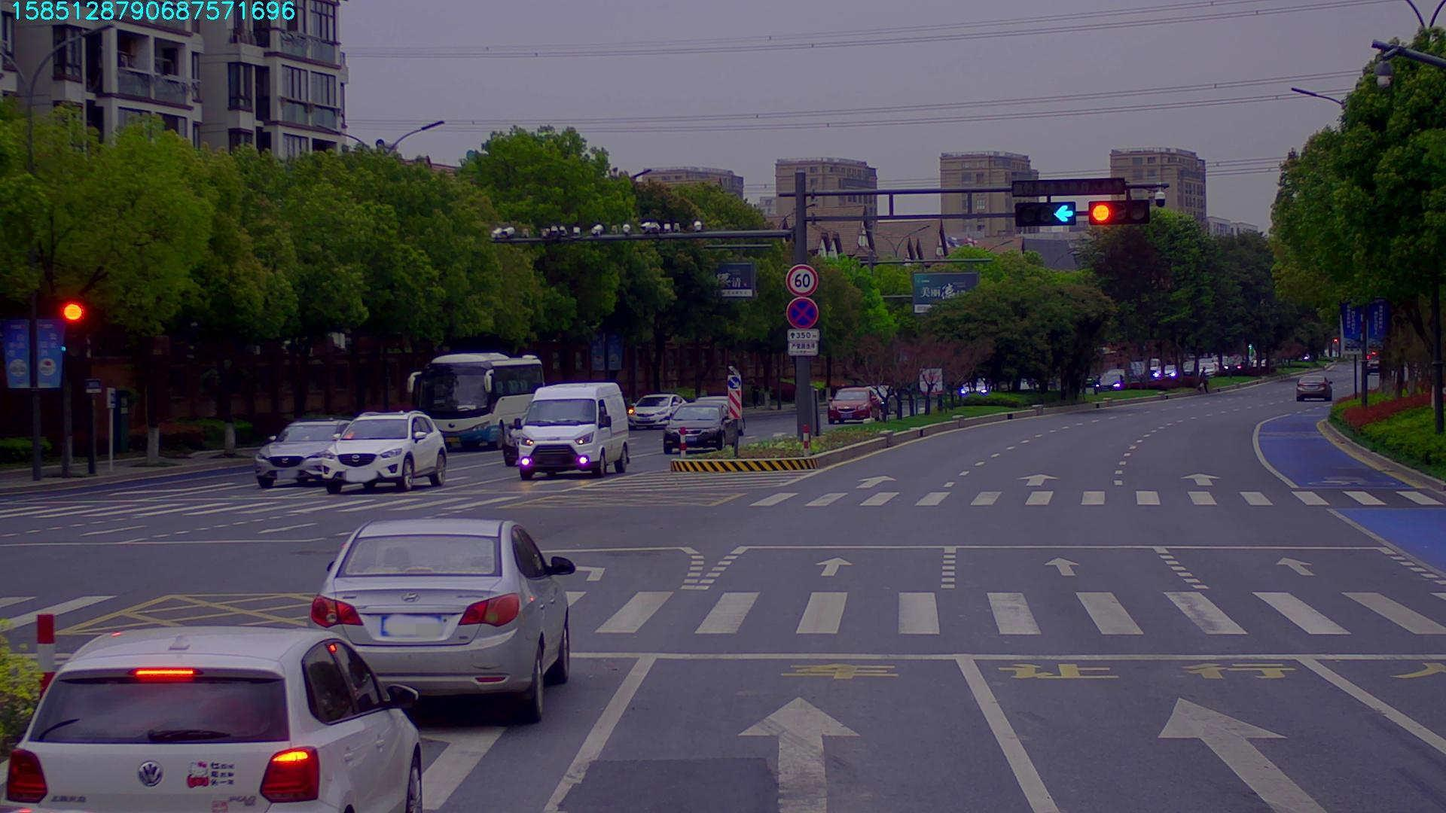green: (1013, 200, 1077, 226)
red: (1086, 200, 1150, 224)
